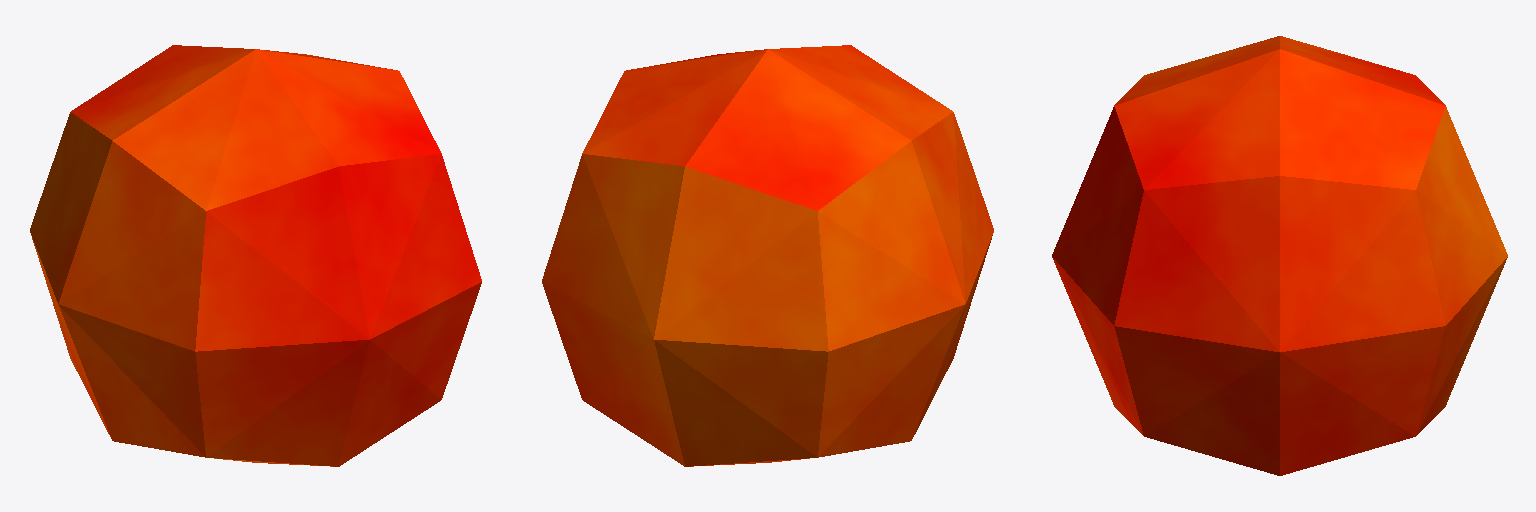
3 views of the same model, side by side, from view 1: azimuth 30°, elevation 25°; view 2: azimuth 150°, elevation 25°; view 3: azimuth 270°, elevation 25° (orthographic).
Visible parts, largest first — view 1: Cube; view 2: Cube; view 3: Cube.
Part boxes in pixels (bbox=[...]): Cube: bbox=[30, 45, 481, 466]; Cube: bbox=[542, 45, 993, 466]; Cube: bbox=[1052, 36, 1507, 475].
Bounding box in the file's own units: 1.68 × 1.68 × 1.68.
1 materials, 1 textured.